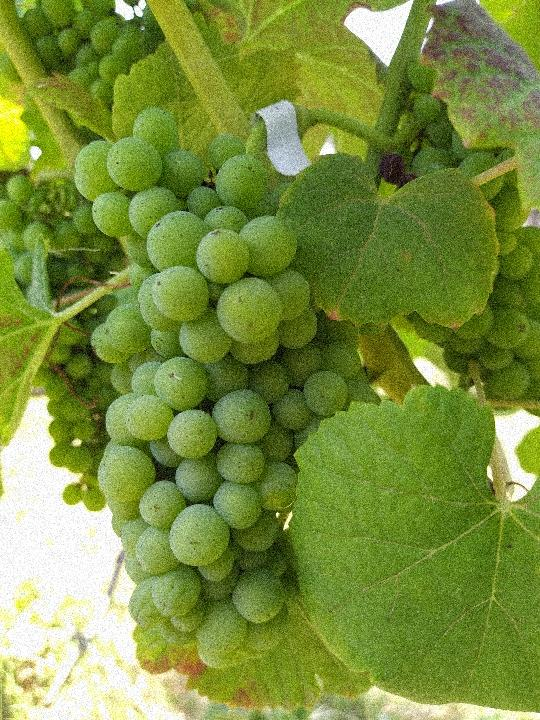grape: (71, 103, 388, 672)
